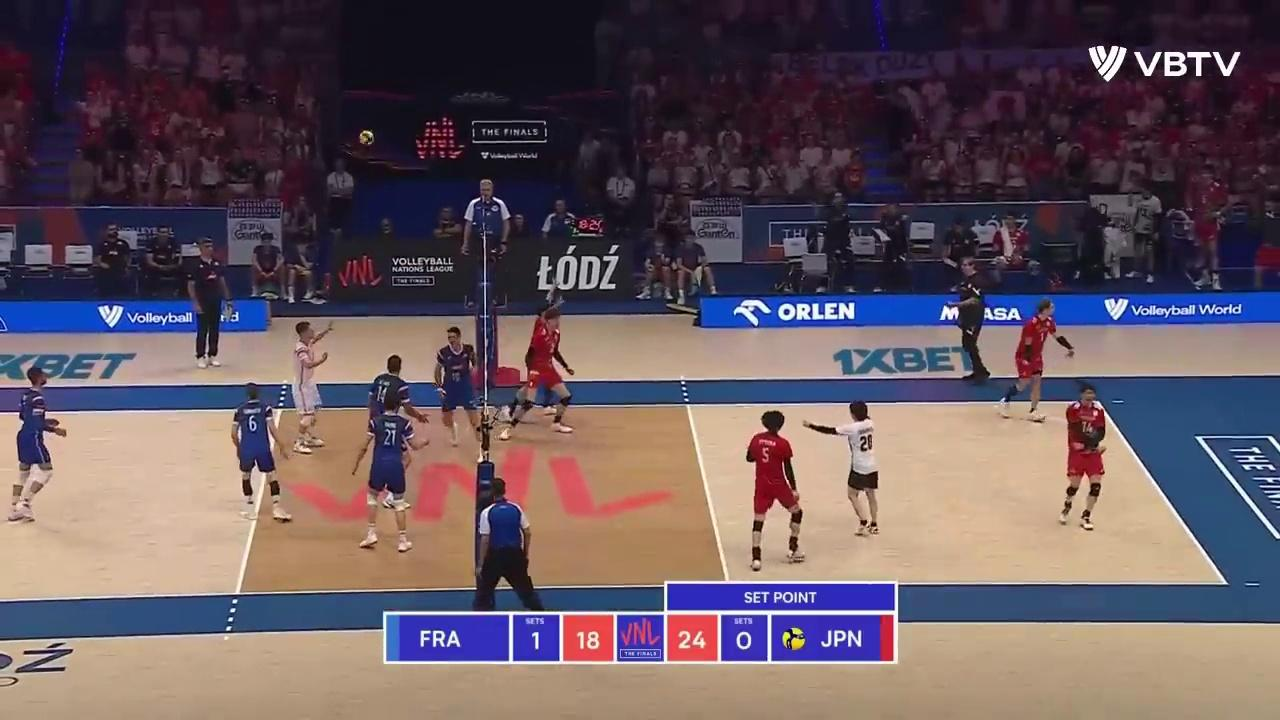ball: (358, 129, 373, 146)
